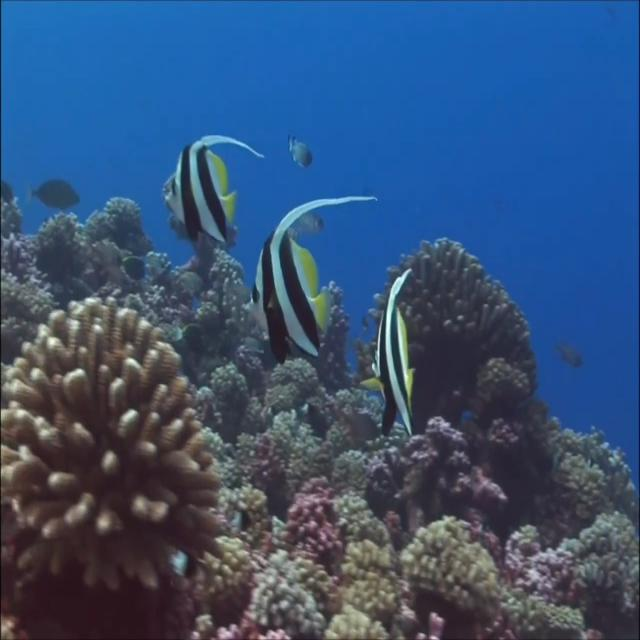Bannerfish: (248, 194, 378, 352), (163, 135, 262, 242), (367, 272, 423, 437)
